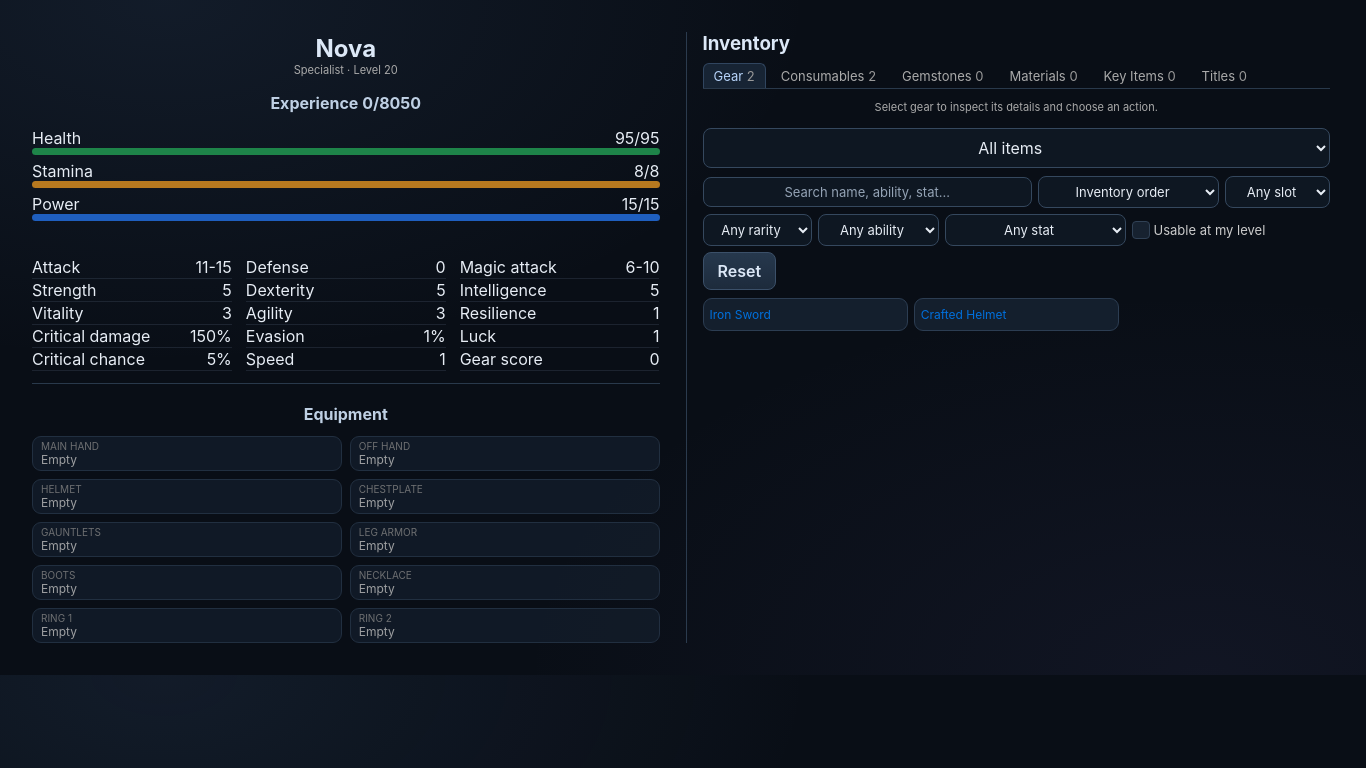
Scenario: combat disables rune selection
Step 1. Click the tab "Consumables 2" → (828, 76), box [770, 63, 887, 88]
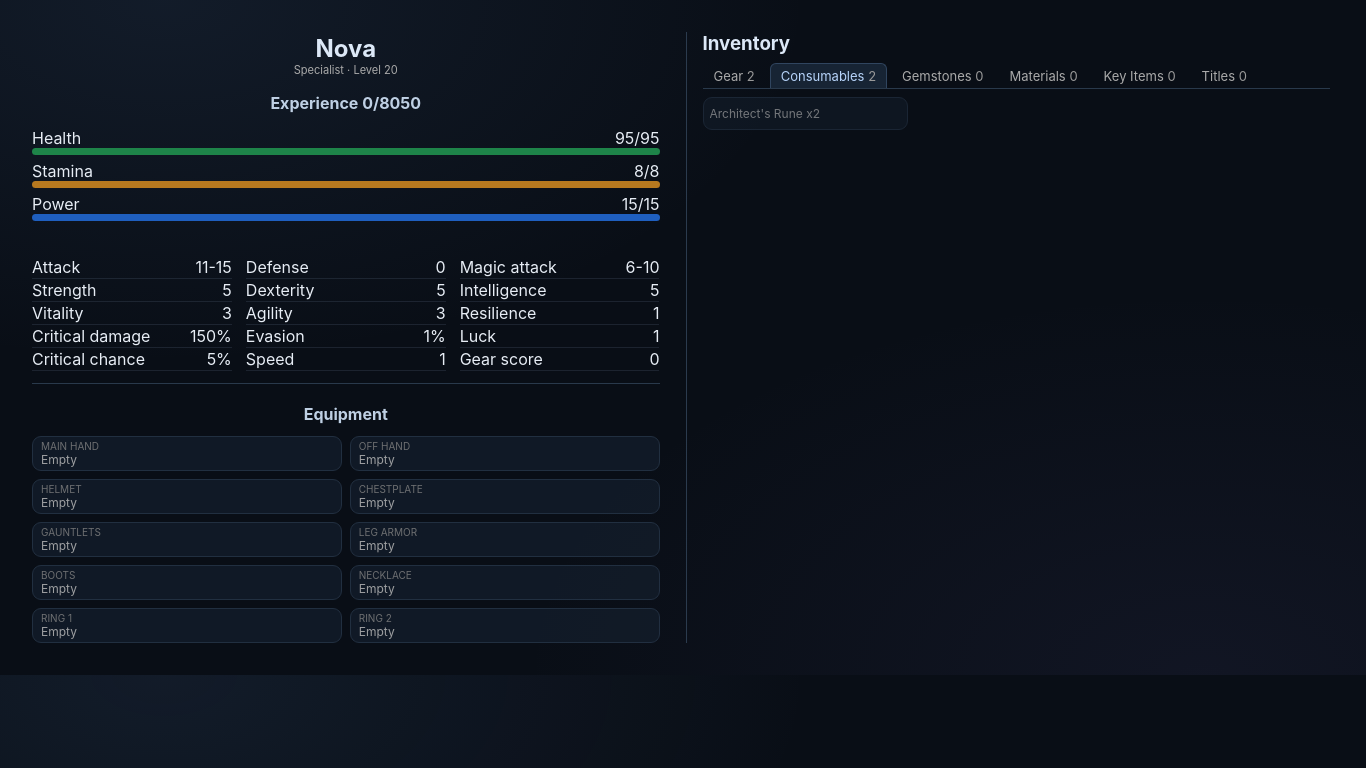
Result: the button "Architect's Rune x2" is disabled at [702, 97, 908, 130]
